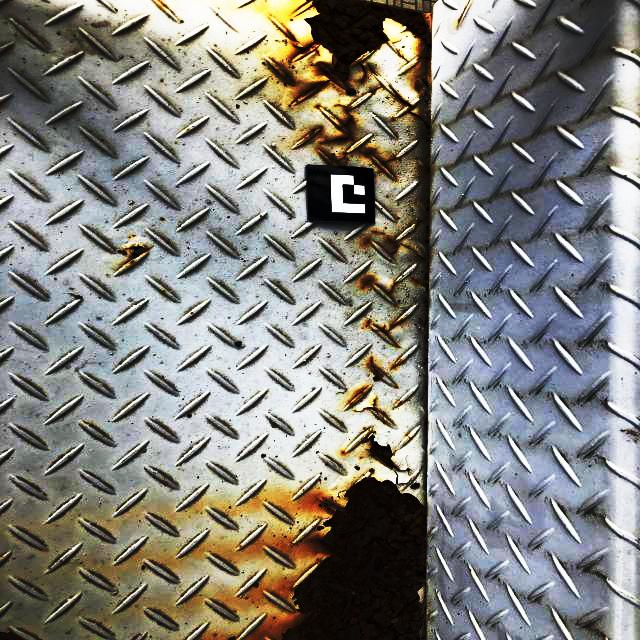Corrosion: (283, 478, 428, 640), (288, 0, 432, 104), (359, 429, 412, 484), (316, 102, 356, 145), (372, 228, 424, 261), (244, 614, 302, 640), (352, 398, 391, 424), (375, 319, 405, 348), (387, 84, 413, 110), (298, 535, 327, 556), (123, 245, 152, 265), (407, 110, 431, 131), (456, 0, 471, 28), (318, 497, 345, 512), (377, 152, 397, 171), (324, 153, 352, 166), (368, 355, 384, 377), (301, 127, 323, 141), (0, 630, 27, 640), (356, 147, 377, 157), (282, 68, 295, 84), (360, 277, 377, 289), (386, 282, 400, 295), (389, 358, 402, 371), (365, 86, 385, 94), (364, 237, 372, 246), (227, 636, 237, 640)
